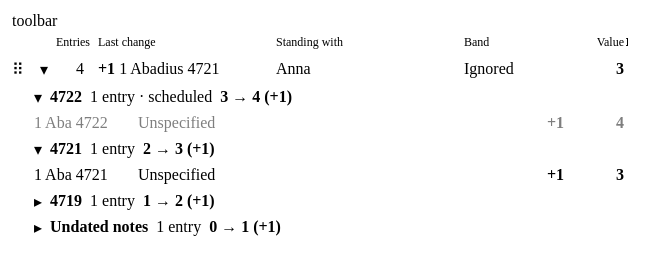
Test: NumericTab › history › opens the current and future years, closes older ones and puts undated last; a click toggles without toggling the row
Click the button with class "rel-num-year-toggle" showing "▸ 4719 1 entry 1 → 2 (+1)" at (66, 200), box [34,192,624,210]
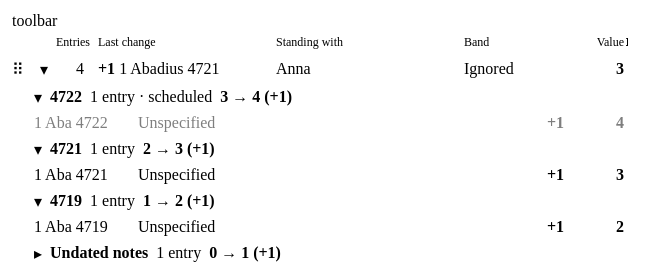
Check: the button with class "rel-num-year-toggle" is expanded, box [34,192,624,210]
Click the button with class "rel-num-year-toggle" that starts with "1 entry · scheduled" at (66, 96), box [34,88,624,106]
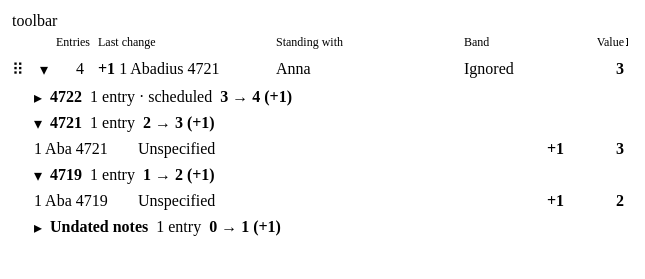
Check: the button with class "rel-num-year-toggle" is collapsed, box [34,88,624,106]
